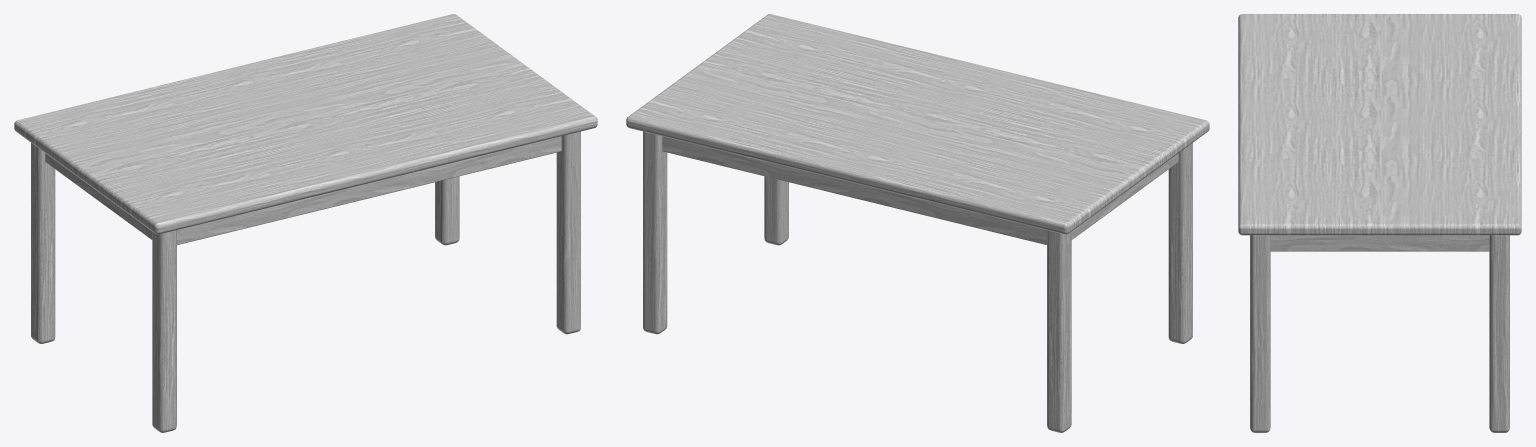
Rendered from dining-table-1.6m.gltf.
3 renders of one model, left to right at view 1: azimuth 30°, elevation 25°; view 2: azimuth 150°, elevation 25°; view 3: azimuth 270°, elevation 25°, orthographic.
Visible parts, largest first — view 1: dining-table; view 2: dining-table; view 3: dining-table.
Boxes of the visible parts, x1,y1,x2,y2 form: dining-table: (14, 14, 597, 432); dining-table: (626, 14, 1209, 432); dining-table: (1238, 14, 1521, 432).
Size of the model in its own units: 1.6 by 0.75 by 0.9.
Materials: 1 (1 with a texture image).
